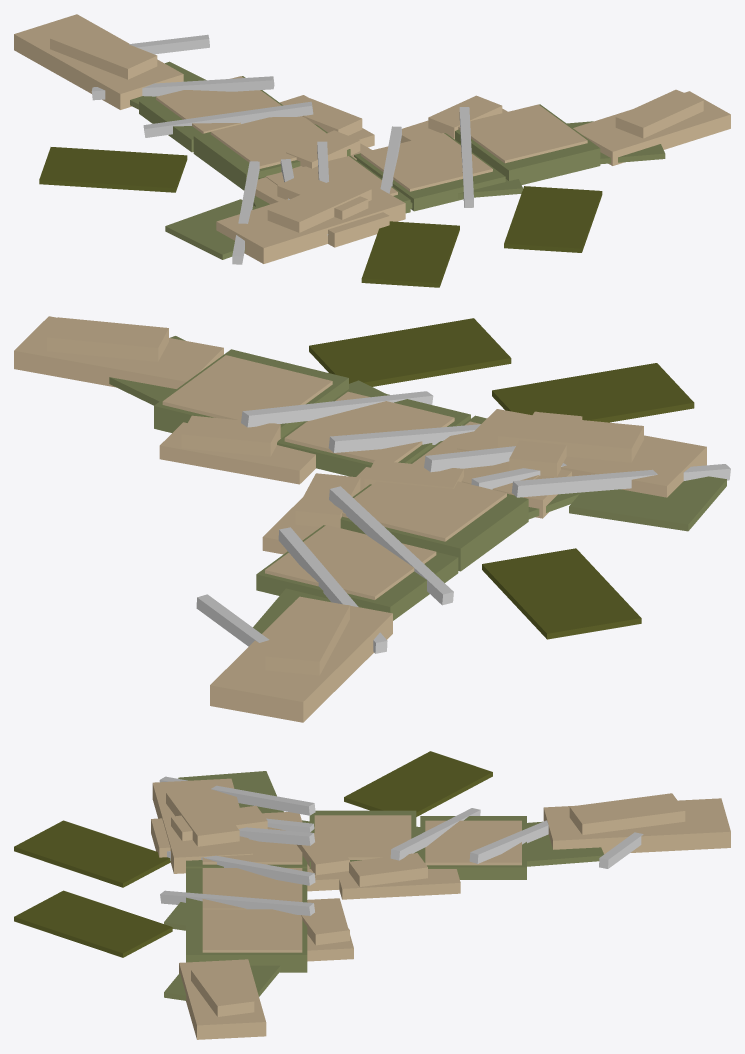
File: SM_HescoEsquina_v4_Red_e3_Brecha_LOD1.fbx
3 views of the same model, one above another, from view 1: azimuth 30°, elevation 25°; view 2: azimuth 150°, elevation 25°; view 3: azimuth 270°, elevation 25° (orthographic). The views are drawn at different scales.
Visible parts, largest first — view 1: SM_hesco_piezas_v19_LOD1; view 2: SM_hesco_piezas_v19_LOD1; view 3: SM_hesco_piezas_v19_LOD1.
Part boxes in pixels (<box>): SM_hesco_piezas_v19_LOD1: <box>14,14,730,287</box>; SM_hesco_piezas_v19_LOD1: <box>14,316,730,722</box>; SM_hesco_piezas_v19_LOD1: <box>14,751,730,1039</box>.
Size of the model in its own units: 6.75 by 0.351 by 7.21.
